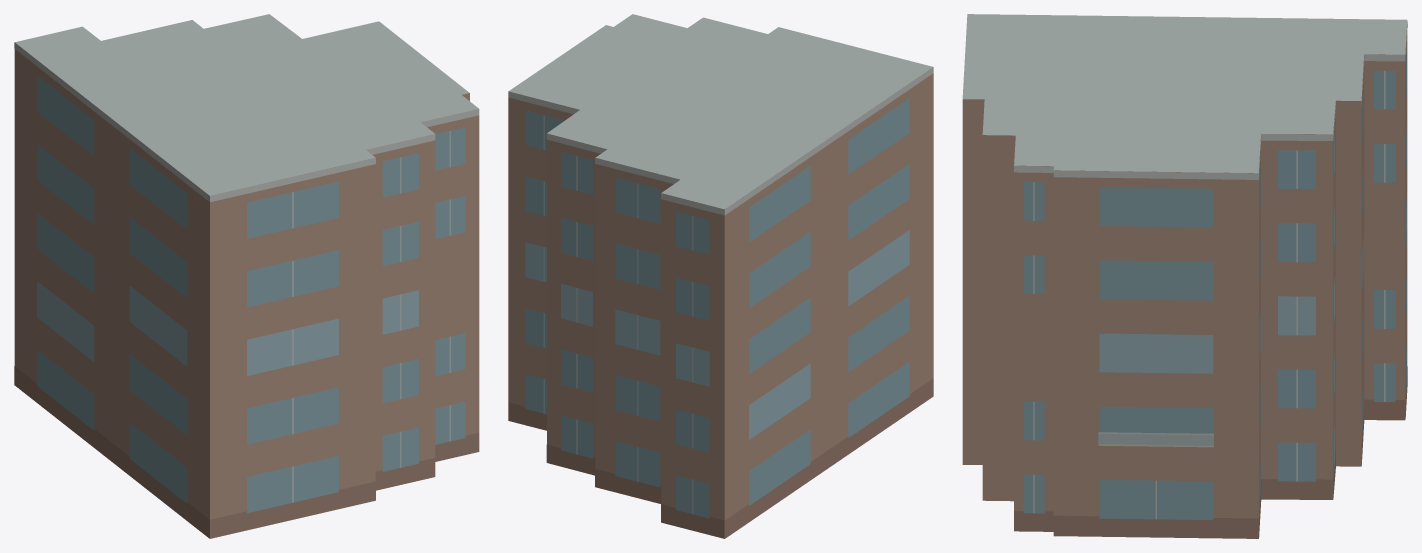
File: survey-upis-32646611.glb
3 renders of one model, left to right at view 1: azimuth 30°, elevation 25°; view 2: azimuth 150°, elevation 25°; view 3: azimuth 270°, elevation 25°, orthographic. The views are drawn at different scales.
Parts seen in each view (by area): view 1: survey-upis-32646611.tmp; view 2: survey-upis-32646611.tmp; view 3: survey-upis-32646611.tmp.
Boxes of the visible parts, x1=… form: survey-upis-32646611.tmp: x1=14, y1=14, x2=479, y2=538; survey-upis-32646611.tmp: x1=508, y1=14, x2=933, y2=538; survey-upis-32646611.tmp: x1=962, y1=14, x2=1407, y2=538.
Bounding box in the file's own units: 12.24 × 13.1 × 14.45.
